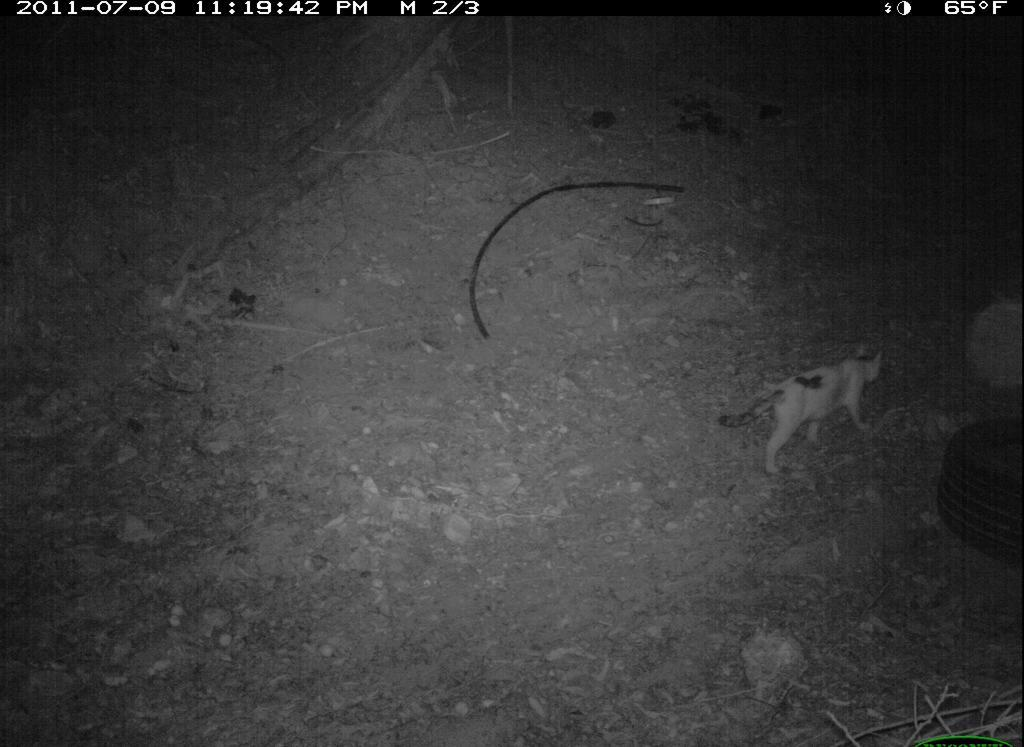cat: (719, 344, 890, 477)
